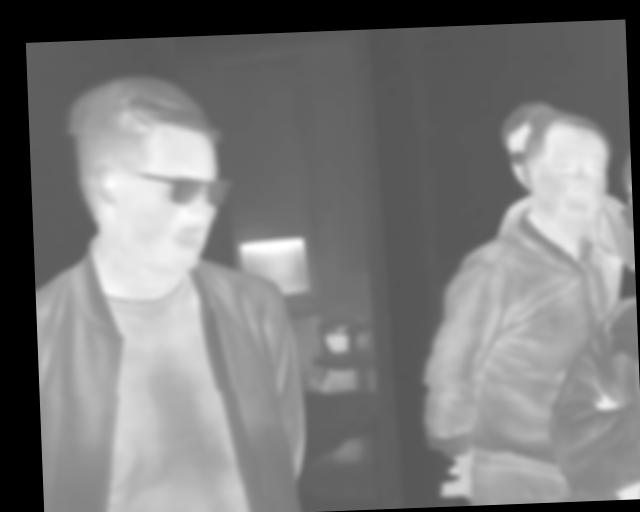face: (62, 69, 228, 274), (522, 110, 614, 236)
